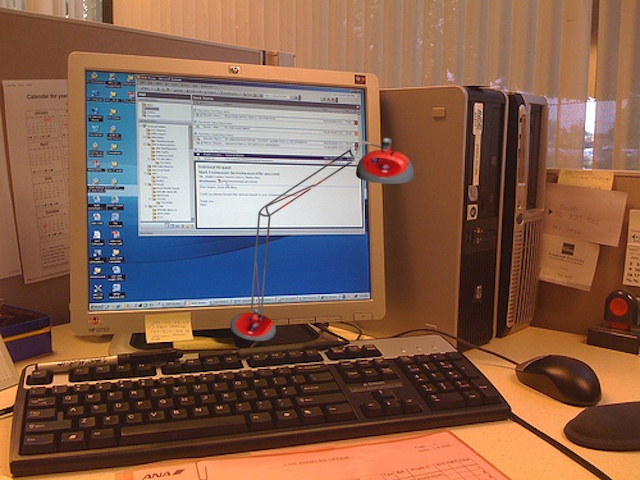desk_lamp: (224, 128, 417, 352)
